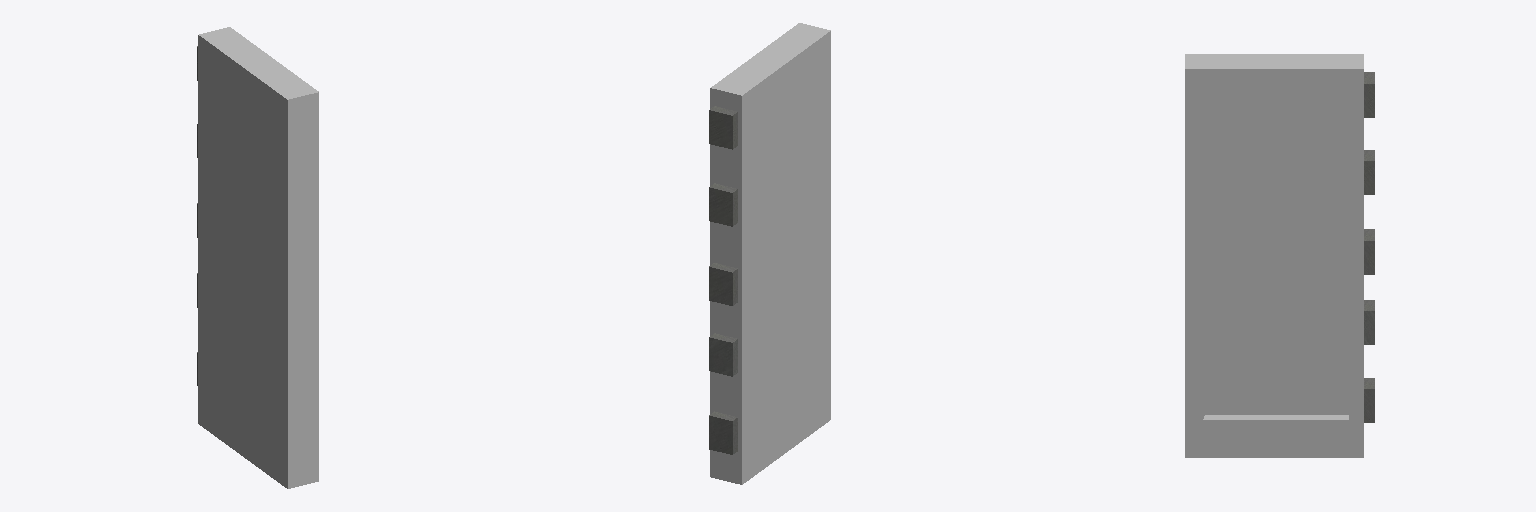
The picture shows the model from 3 angles: view 1: azimuth 30°, elevation 25°; view 2: azimuth 150°, elevation 25°; view 3: azimuth 270°, elevation 25°; orthographic projection.
Visible parts, largest first — view 1: mampara.003_Cube.008; view 2: mampara.003_Cube.008; view 3: mampara.003_Cube.008.
Part boxes in pixels (x1,y1,x2,y2): mampara.003_Cube.008: (197,27,318,488); mampara.003_Cube.008: (709,23,830,484); mampara.003_Cube.008: (1185,54,1374,457).
Bounding box in the file's own units: 0.8493 × 9.9 × 4.37.
Materials: 3 (1 with a texture image).